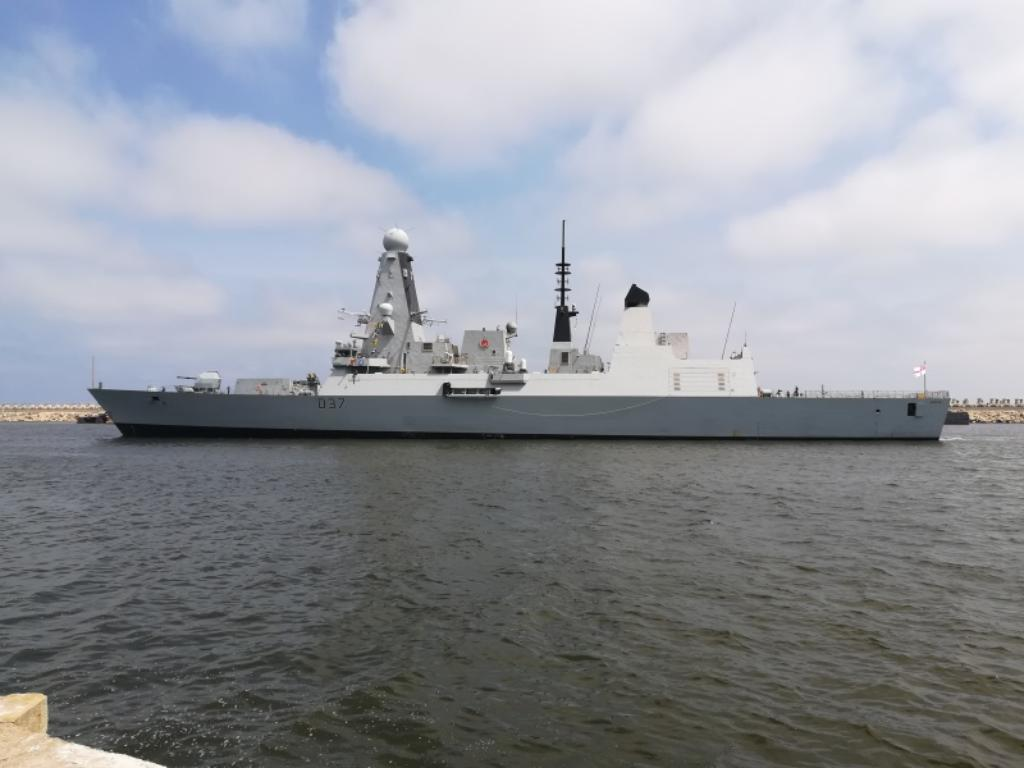Warship: (82, 213, 956, 448)
